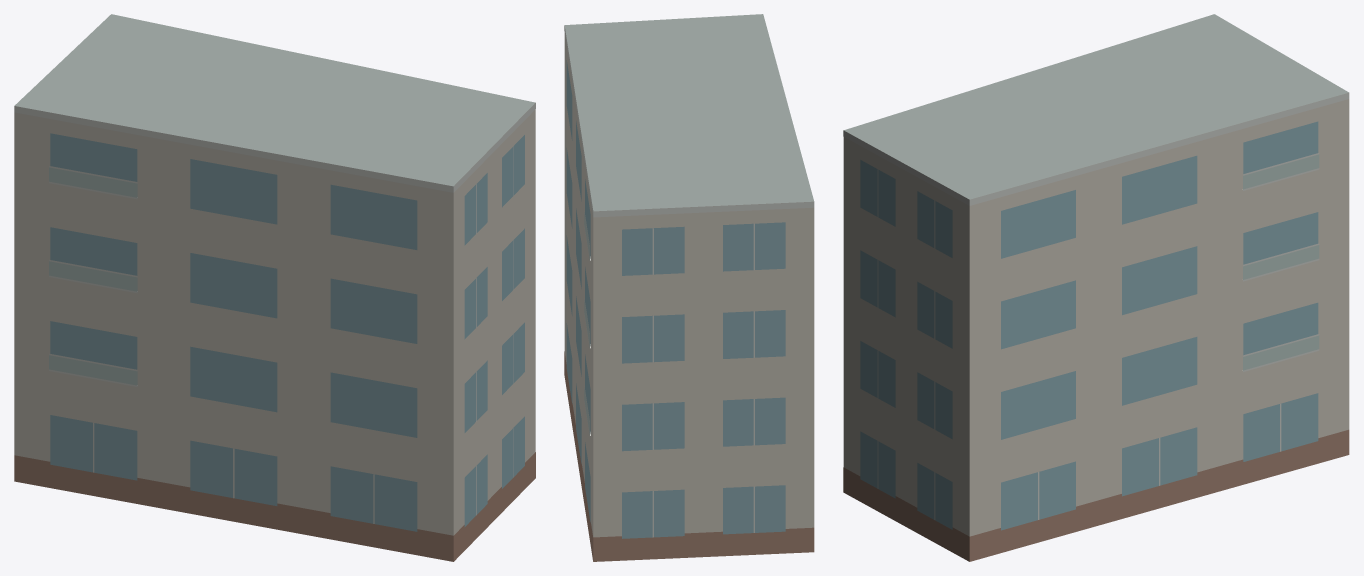
File: survey-upis-32780658.glb
3 views of the same model, side by side, from view 1: azimuth 30°, elevation 25°; view 2: azimuth 150°, elevation 25°; view 3: azimuth 270°, elevation 25° (orthographic). The views are drawn at different scales.
Visible parts, largest first — view 1: survey-upis-32780658.tmp; view 2: survey-upis-32780658.tmp; view 3: survey-upis-32780658.tmp.
Boxes of the visible parts, x1,y1,x2,y2 form: survey-upis-32780658.tmp: (14,14,535,561); survey-upis-32780658.tmp: (564,14,814,561); survey-upis-32780658.tmp: (843,14,1349,561).
Bounding box in the file's own units: 15.47 × 14.06 × 17.8.
